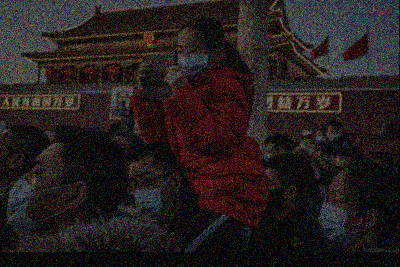mask_weared_incorrect: (328, 154, 349, 178)
with_mask: (7, 154, 72, 236), (319, 184, 365, 245), (126, 170, 177, 220), (174, 40, 214, 78), (264, 170, 289, 211), (264, 144, 279, 162), (324, 128, 341, 140), (315, 131, 324, 143)
